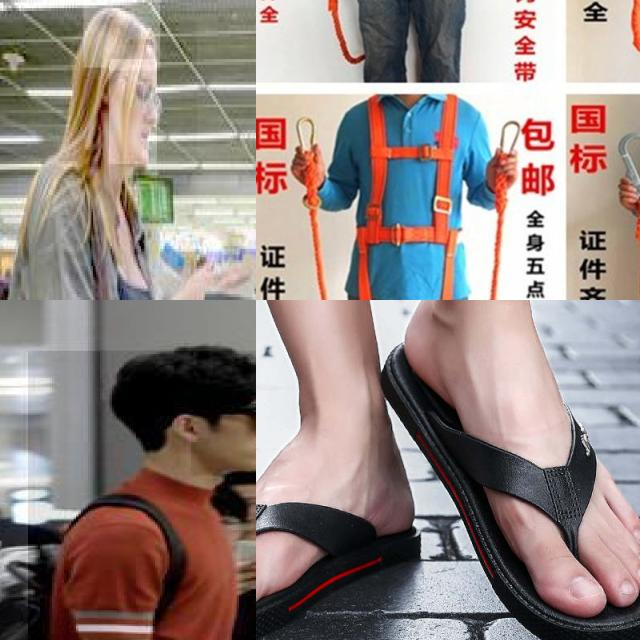Harness: (355, 93, 468, 300)
No_Ear-Protection: (167, 412, 205, 444)
Sandals: (438, 325, 640, 635), (256, 485, 405, 619)
face_nomask: (109, 59, 159, 167), (191, 398, 256, 475), (219, 493, 256, 533)
glasses: (138, 78, 166, 120)
hand_noglove: (241, 546, 256, 594)
head_nohelmet: (100, 350, 256, 400), (83, 0, 161, 70), (212, 474, 256, 493)
person: (28, 350, 256, 640), (0, 22, 198, 300)
